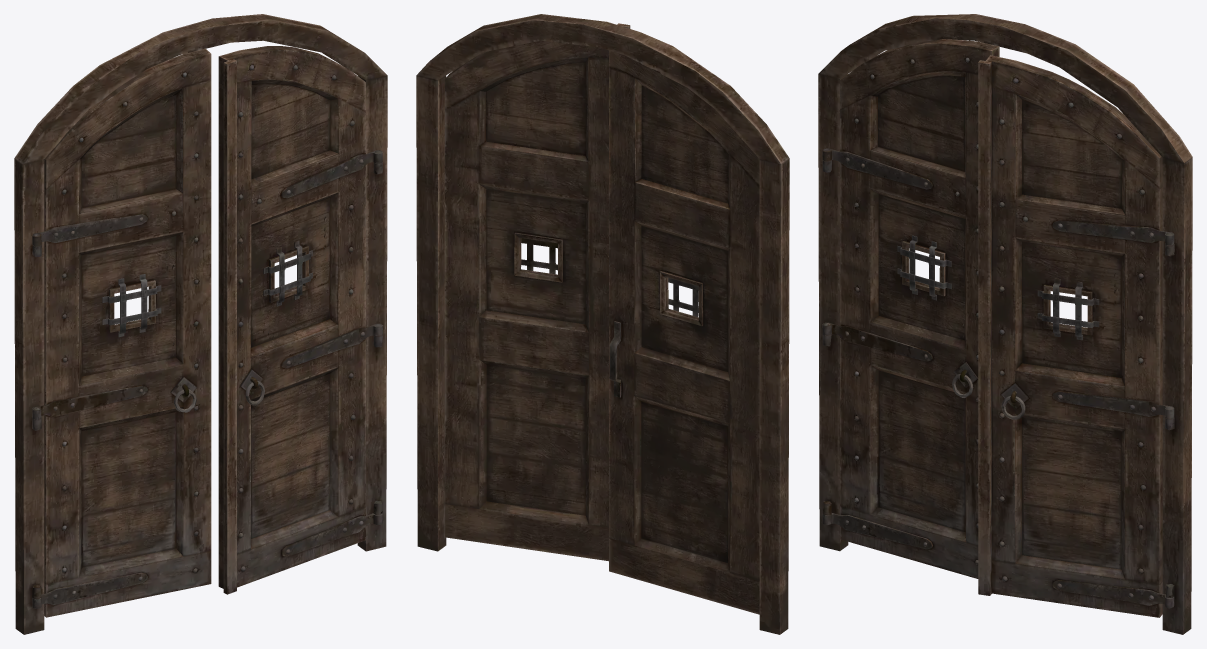
The model's file is large_castle_door.light.glb.
3 renders of one model, left to right at view 1: azimuth 30°, elevation 25°; view 2: azimuth 150°, elevation 25°; view 3: azimuth 330°, elevation 25°, orthographic.
Visible parts, largest first — view 1: large_castle_door_left, large_castle_door_right, large_castle_door_frame; view 2: large_castle_door_right, large_castle_door_left, large_castle_door_frame; view 3: large_castle_door_right, large_castle_door_left, large_castle_door_frame.
Boxes of the visible parts, box(x1,y1,x2,y2) form: large_castle_door_left: box(32, 48, 211, 617); large_castle_door_right: box(218, 46, 382, 594); large_castle_door_frame: box(14, 14, 387, 634); large_castle_door_right: box(444, 23, 630, 561); large_castle_door_left: box(609, 50, 759, 614); large_castle_door_frame: box(416, 14, 789, 634); large_castle_door_right: box(978, 55, 1174, 617); large_castle_door_left: box(822, 39, 999, 578); large_castle_door_frame: box(818, 14, 1192, 634).
Bounding box in the file's own units: 4 × 5.89 × 0.589.
Materials: 1 (1 with a texture image).
